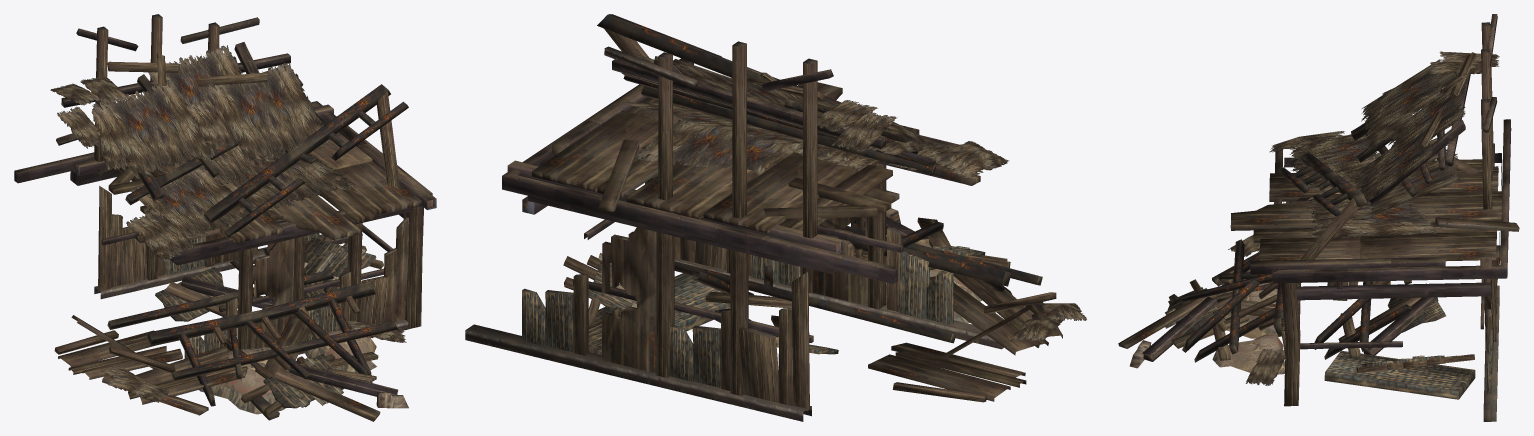
The model's file is FeiXuAll1_FangZi05.FBX.
3 views of the same model, side by side, from view 1: azimuth 30°, elevation 25°; view 2: azimuth 150°, elevation 25°; view 3: azimuth 270°, elevation 25° (orthographic). The views are drawn at different scales.
Parts seen in each view (by area): view 1: FeiXuAll1_FangZi05; view 2: FeiXuAll1_FangZi05; view 3: FeiXuAll1_FangZi05.
Boxes of the visible parts, left/top/right/bottom form: FeiXuAll1_FangZi05: left=14, top=14, right=436, bottom=421; FeiXuAll1_FangZi05: left=465, top=14, right=1086, bottom=421; FeiXuAll1_FangZi05: left=1118, top=14, right=1519, bottom=421.
Bounding box in the file's own units: 607 × 449 × 580.
